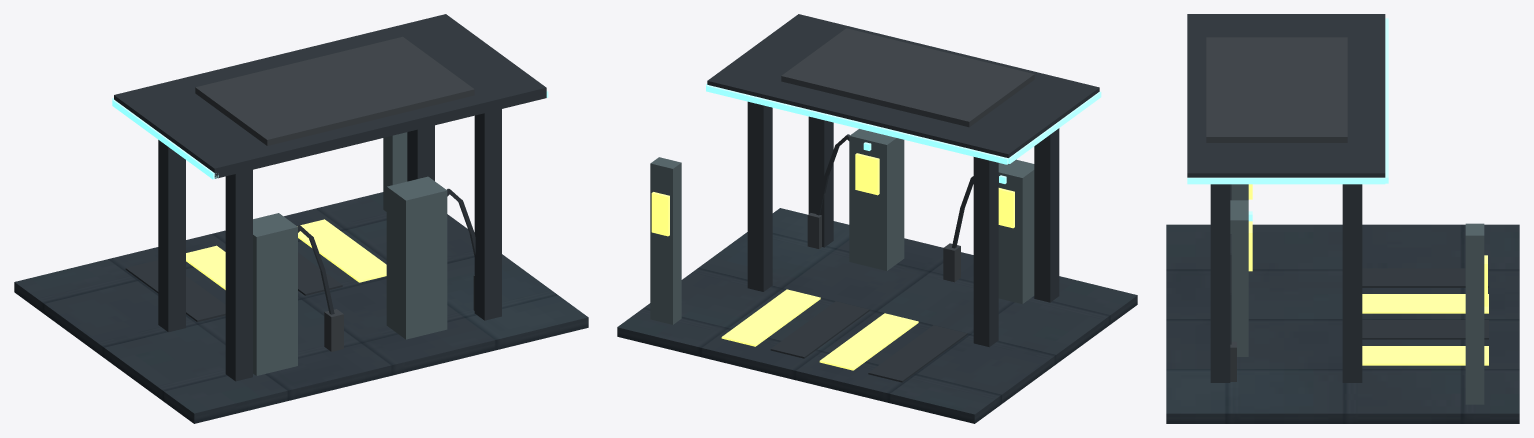
The model's file is synthwave-charging.glb.
The picture shows the model from 3 angles, left to right: view 1: azimuth 30°, elevation 25°; view 2: azimuth 150°, elevation 25°; view 3: azimuth 270°, elevation 25°; orthographic projection. The views are drawn at different scales.
Visible parts, largest first — view 1: Pad, Chg_Frame, Chg_Body, Chg_Door, Chg_DimB, Chg_DimA; view 2: Pad, Chg_Frame, Chg_Body, Chg_Door, Chg_DimB, Chg_DimA; view 3: Pad, Chg_Frame, Chg_Door, Chg_Body, Chg_DimB, Chg_DimA.
Boxes of the visible parts, bbox=[...] form: Pad: bbox=[14, 192, 588, 423]; Chg_Frame: bbox=[114, 14, 546, 381]; Chg_Body: bbox=[253, 132, 447, 375]; Chg_Door: bbox=[195, 36, 474, 351]; Chg_DimB: bbox=[186, 219, 386, 289]; Chg_DimA: bbox=[112, 91, 548, 179]; Pad: bbox=[617, 208, 1137, 423]; Chg_Frame: bbox=[707, 14, 1099, 382]; Chg_Body: bbox=[650, 129, 1034, 324]; Chg_Door: bbox=[781, 28, 1034, 282]; Chg_DimB: bbox=[651, 153, 1014, 370]; Chg_DimA: bbox=[706, 83, 1101, 183]; Pad: bbox=[1166, 224, 1519, 423]; Chg_Frame: bbox=[1187, 14, 1488, 382]; Chg_Door: bbox=[1206, 37, 1347, 381]; Chg_Body: bbox=[1230, 184, 1484, 404]; Chg_DimB: bbox=[1248, 184, 1488, 365]; Chg_DimA: bbox=[1187, 18, 1388, 221].
Bounding box in the file's own units: 0.95 × 0.567 × 0.75.
6 materials, 1 textured.
